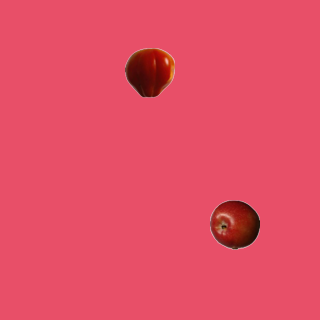Apple Braeburn: (209, 199, 259, 249)
Tomato 1: (124, 47, 174, 97)
